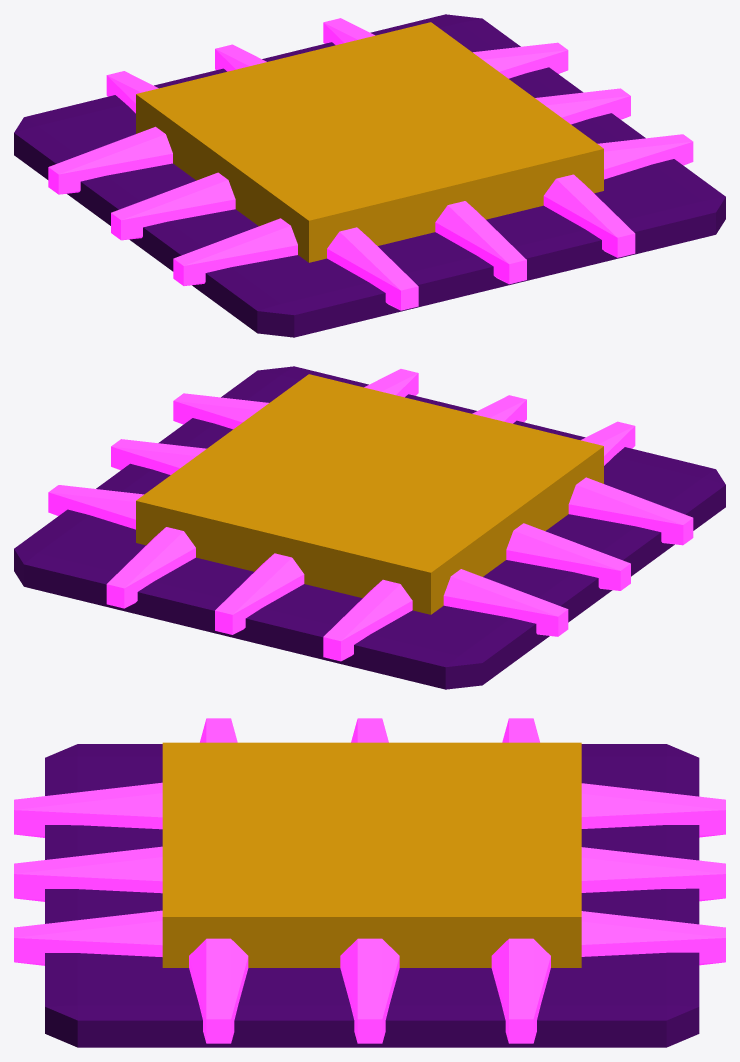
The model's file is Disruptor.fbx.
The picture shows the model from 3 angles, top to bottom: view 1: azimuth 30°, elevation 25°; view 2: azimuth 150°, elevation 25°; view 3: azimuth 270°, elevation 25°; orthographic projection. The views are drawn at different scales.
Visible parts, largest first — view 1: Cube.001, Cube, Cube.004; view 2: Cube.001, Cube, Cube.004; view 3: Cube.001, Cube, Cube.004.
Part boxes in pixels (<box>): Cube.001: <box>136,22,603,262</box>; Cube: <box>14,14,725,337</box>; Cube.004: <box>48,18,693,310</box>; Cube.001: <box>136,374,603,614</box>; Cube: <box>14,366,725,689</box>; Cube.004: <box>48,369,693,661</box>; Cube.001: <box>162,742,581,967</box>; Cube: <box>45,744,699,1047</box>; Cube.004: <box>14,718,725,1043</box>.
Bounding box in the file's own units: 218 × 30.97 × 218.
